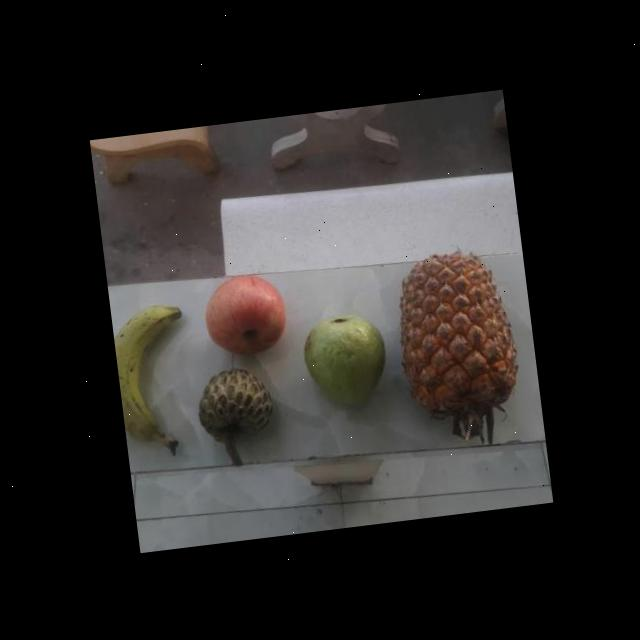Sakya fruit: (192, 363, 280, 462)
apple: (195, 268, 292, 362)
banana: (110, 302, 200, 454)
guava: (300, 308, 394, 409)
pineapple: (390, 238, 524, 428)
